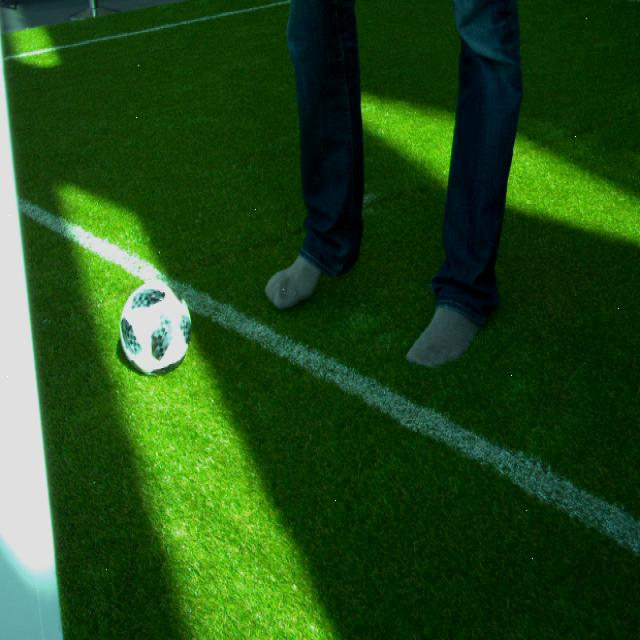ball: (120, 282, 193, 374)
goalpost: (0, 42, 65, 638)
